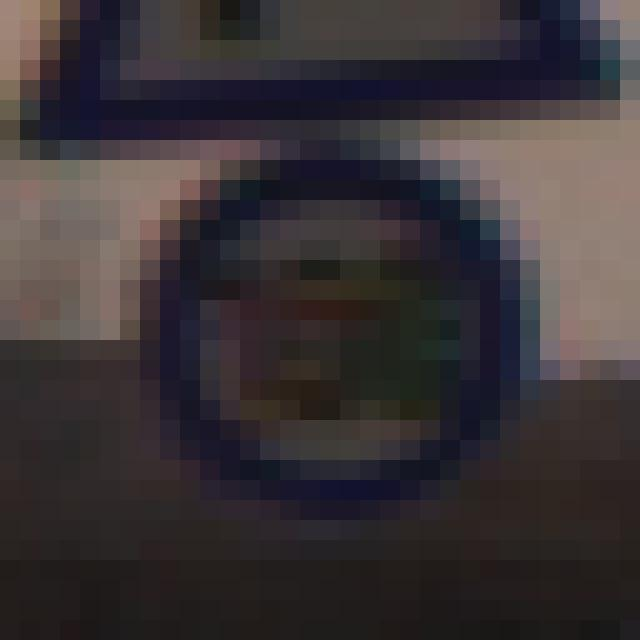SPEED LIMIT 100: (140, 144, 536, 506)
